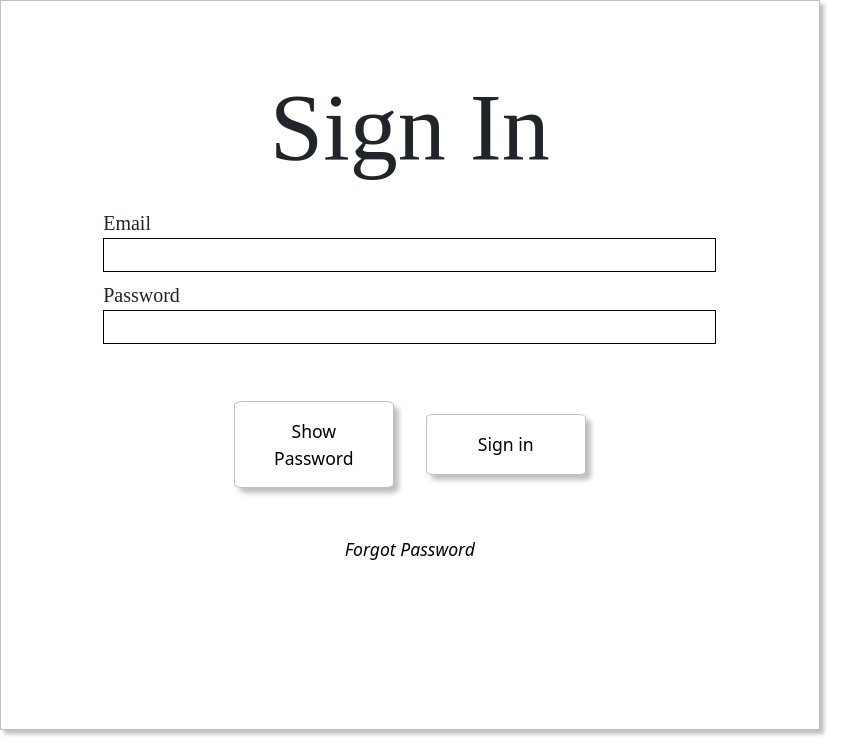
Test: <SignIn /> Component › tests an invalid signin with a bad email/password
Type "test@gmail.com" into the field labelled "Email" at (410, 255), box [103,238,716,272]
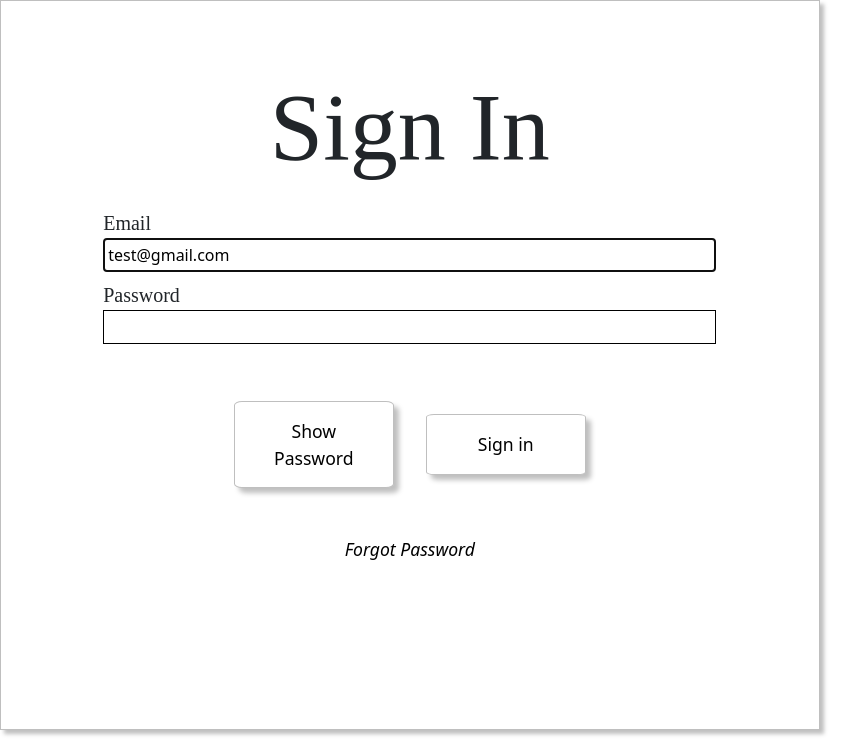
Type "password" into the password field at (410, 327), box [103,310,716,344]
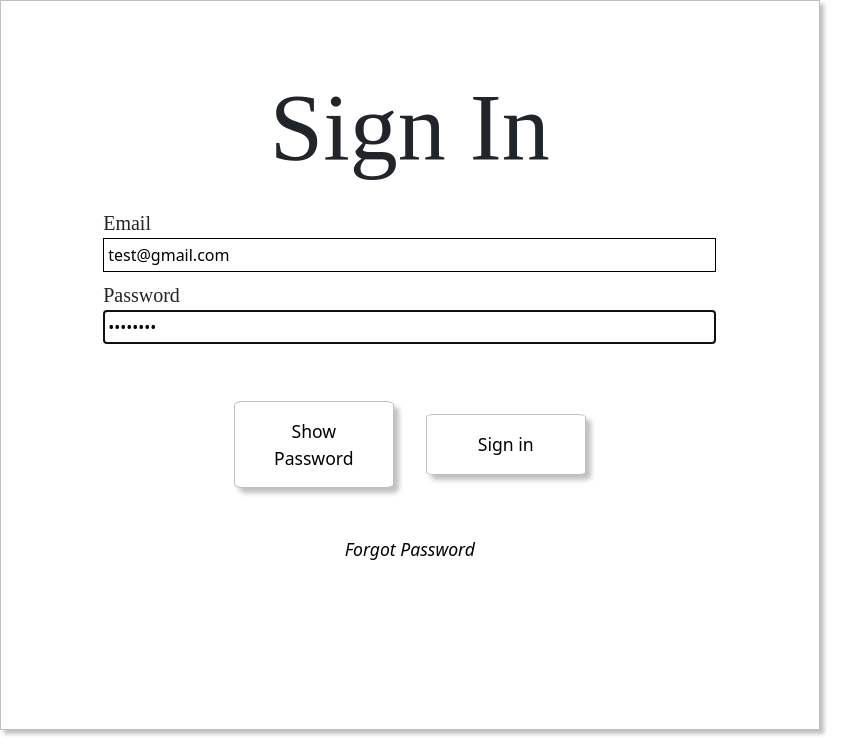
Click the button with aria-label "password_visibility" at (314, 444), box [234,401,394,488]
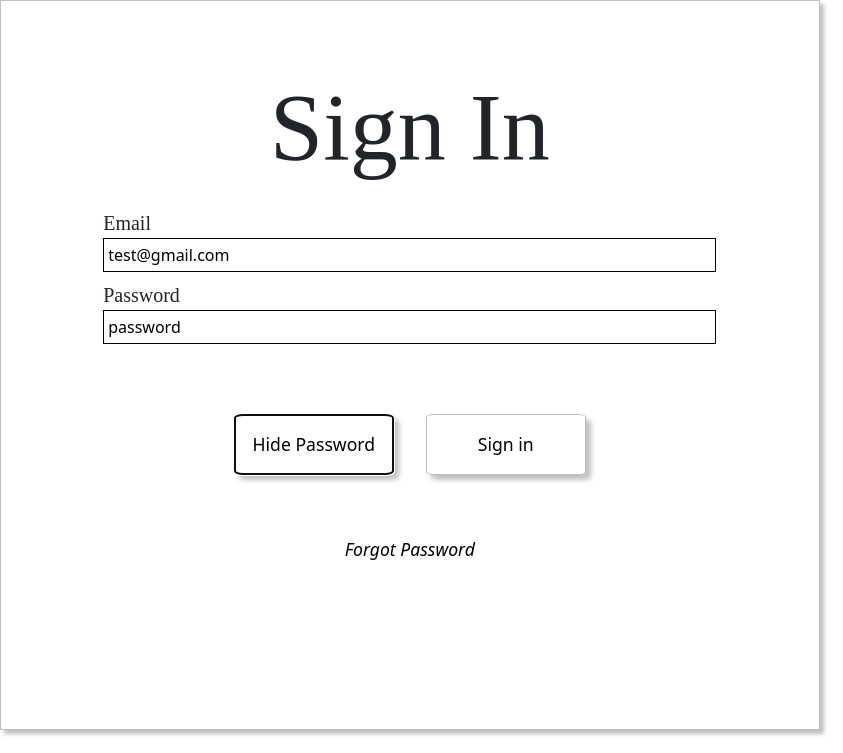
Click the button with aria-label "signin_button" at (506, 444), box [426,414,586,475]
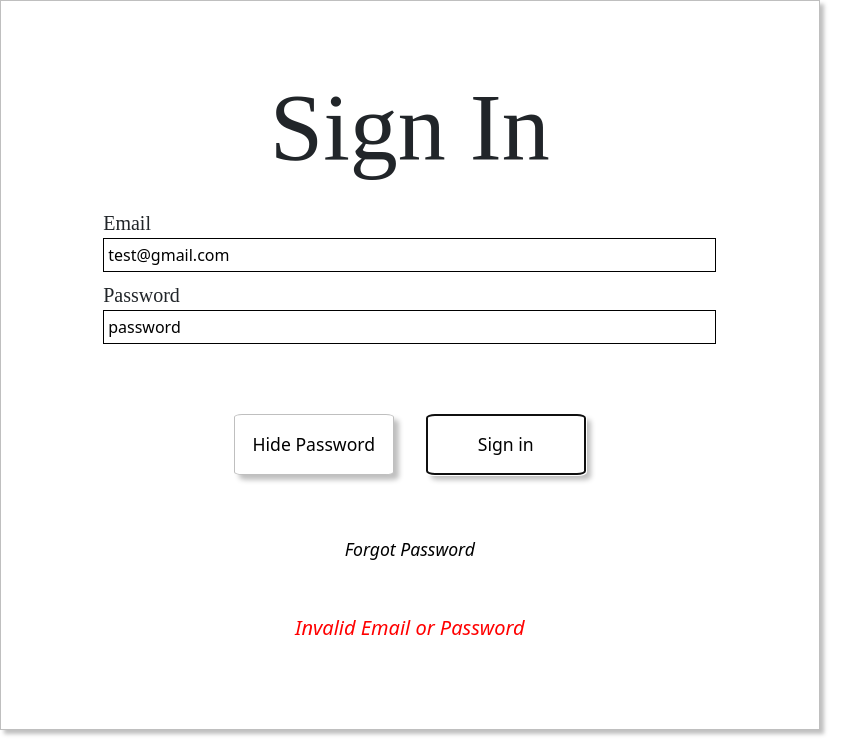
Expected: the field labelled "Password" shows its text, [103,310,716,344]
Expected: the text named "error_text" is shown, [295,613,525,643]
Expected: the text named "error_text" reads "Invalid Email or Password", [295,614,525,641]
